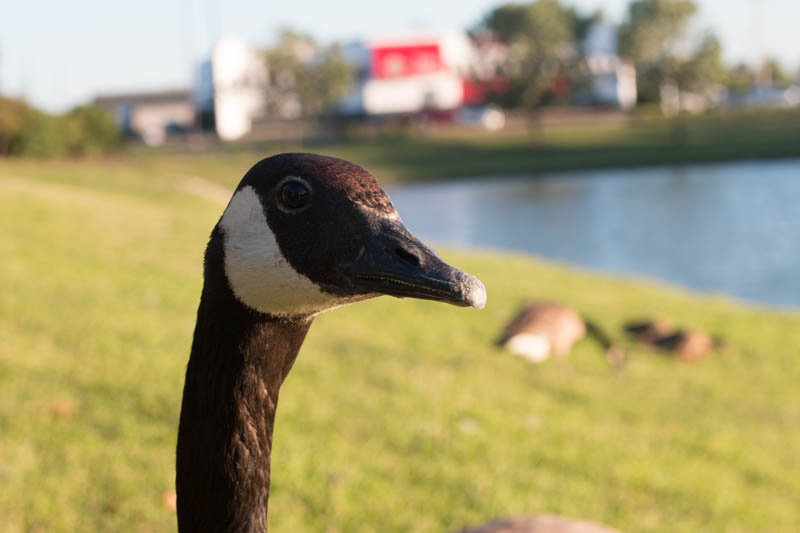goose-head: (202, 151, 491, 325)
